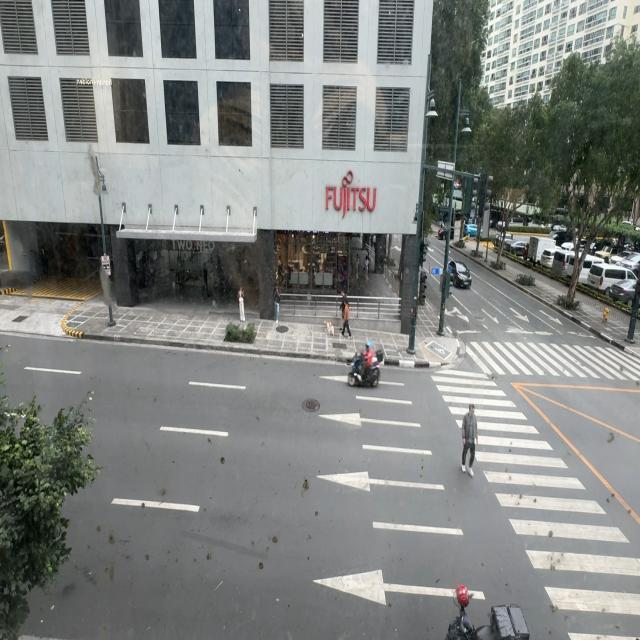jaywalking: (461, 403, 478, 476)
